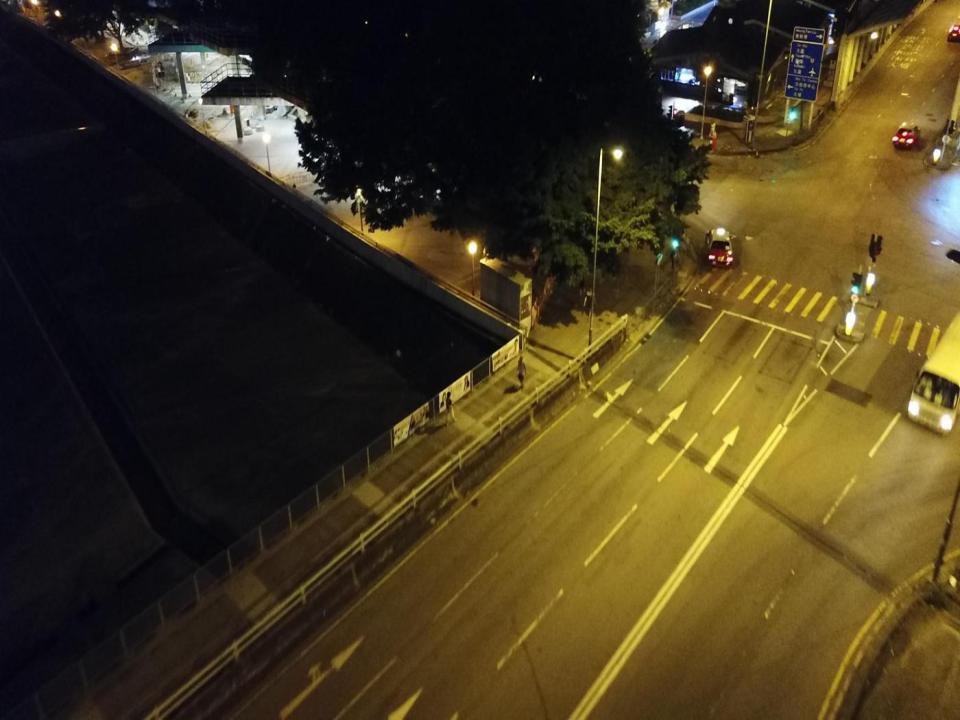car: (704, 228, 734, 268), (890, 121, 922, 148), (707, 120, 717, 146)
van: (906, 308, 960, 437)
